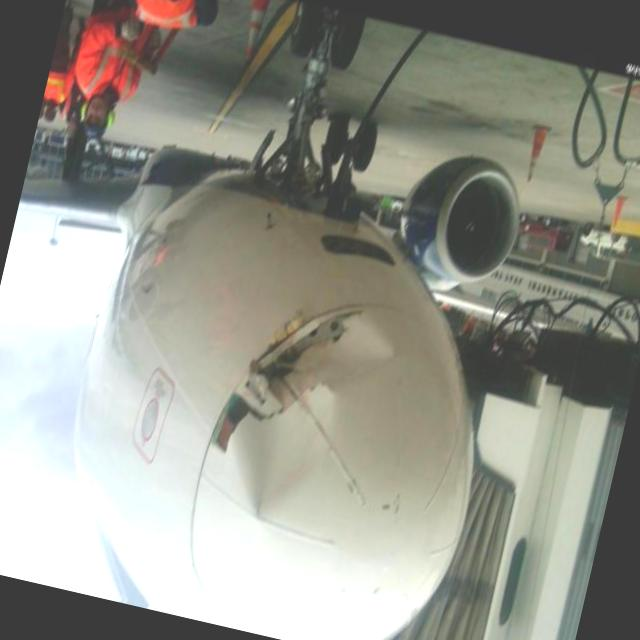dent: (220, 375, 338, 532), (306, 313, 400, 402)
